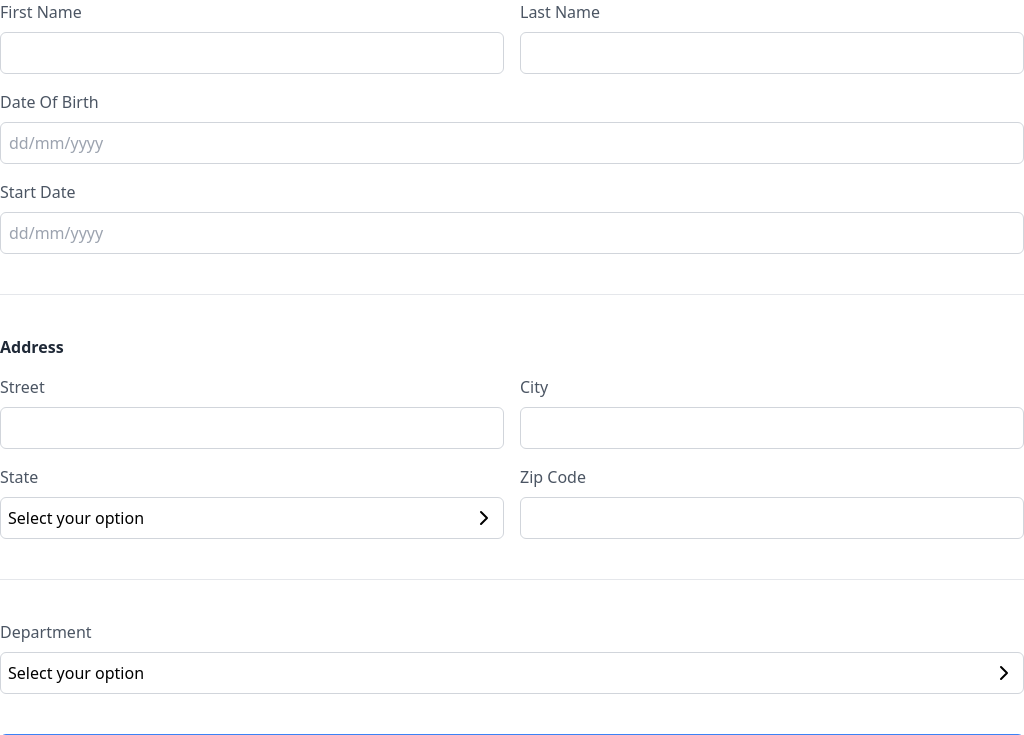
Test: CreateEmployeeForm Component › CreateEmployeeFormInputNumber component › Should display an error message if left empty
The width and height of the screenshot is (1024, 735).
Click the number field with test id "formNumberInput" at (772, 518), box x1=520 y1=497 x2=1023 y2=539
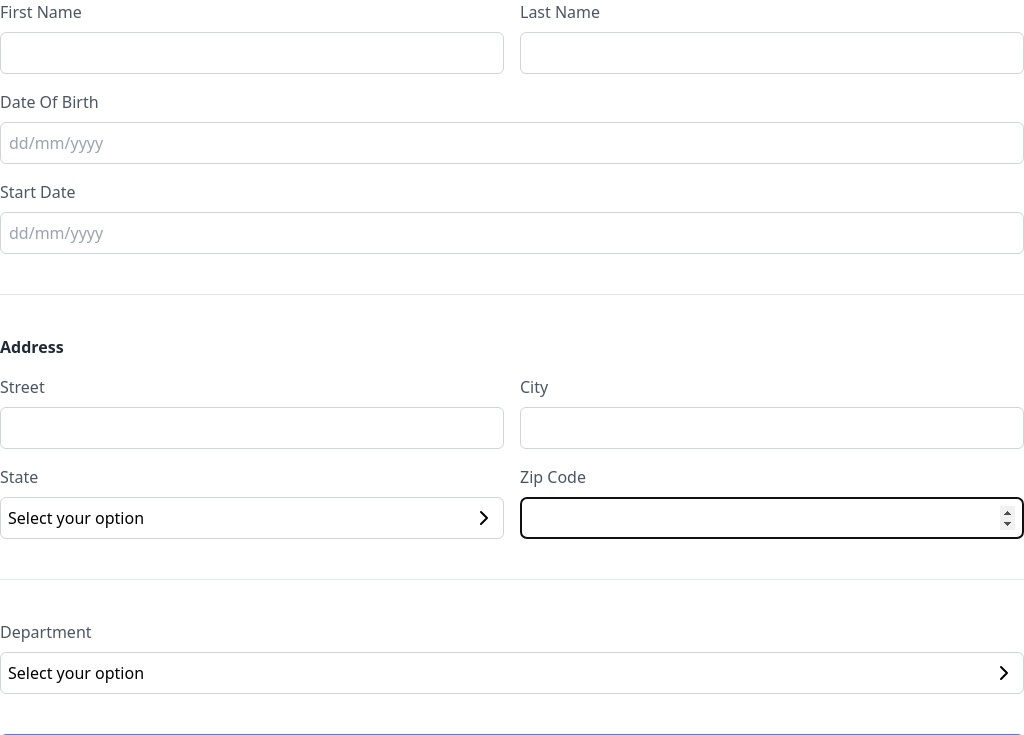
Press Tab
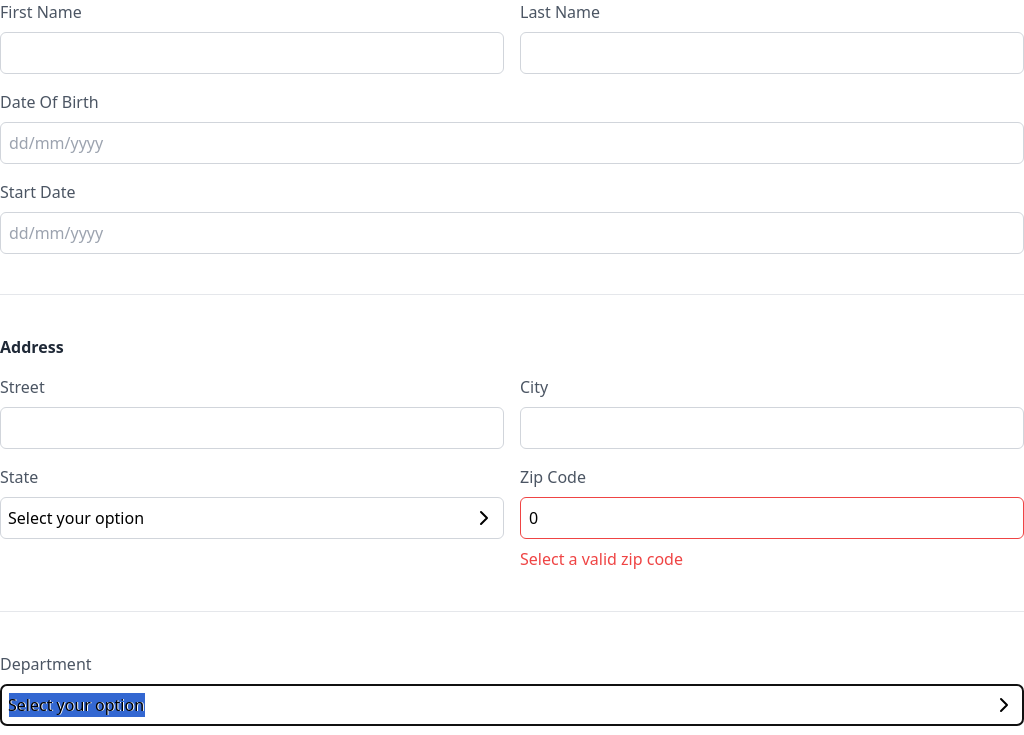
Result: the text "Select a valid zip code" is shown at x1=520 y1=548 x2=683 y2=570
